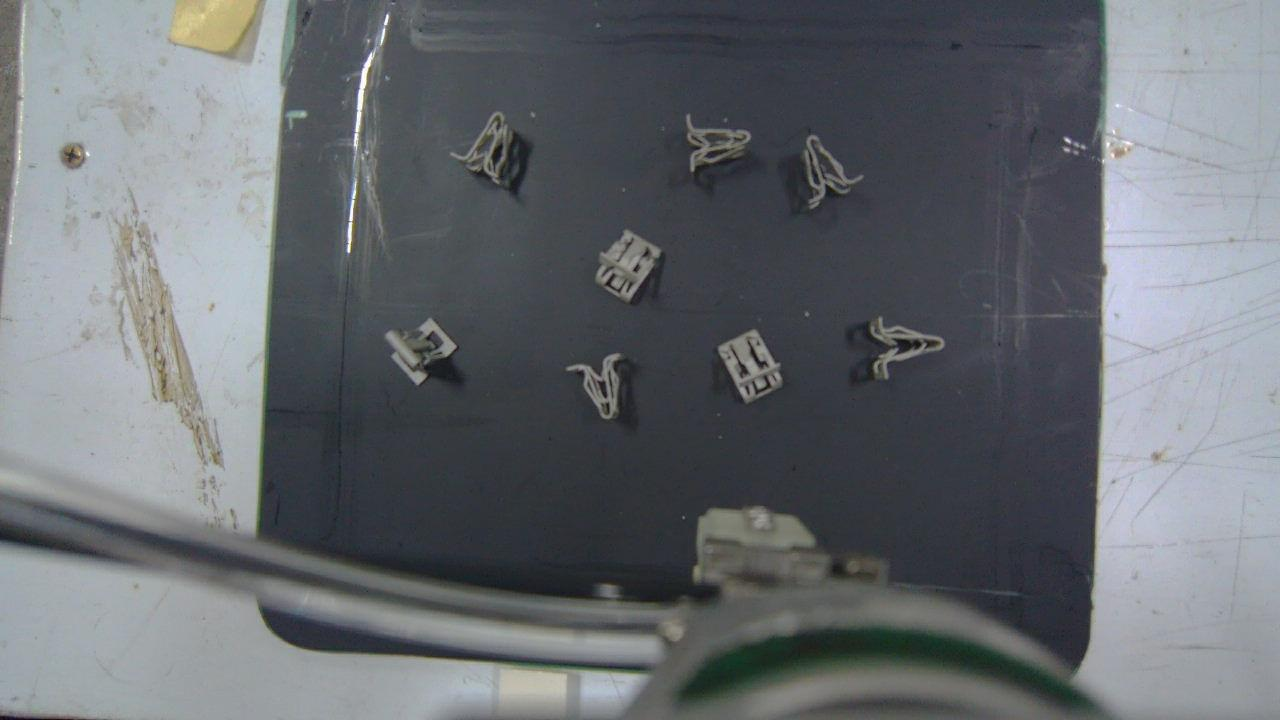ng: (385, 317, 460, 385), (596, 230, 663, 305), (719, 326, 784, 401), (802, 134, 867, 209), (452, 111, 514, 189), (872, 317, 946, 381), (688, 114, 751, 176), (567, 356, 621, 419)
